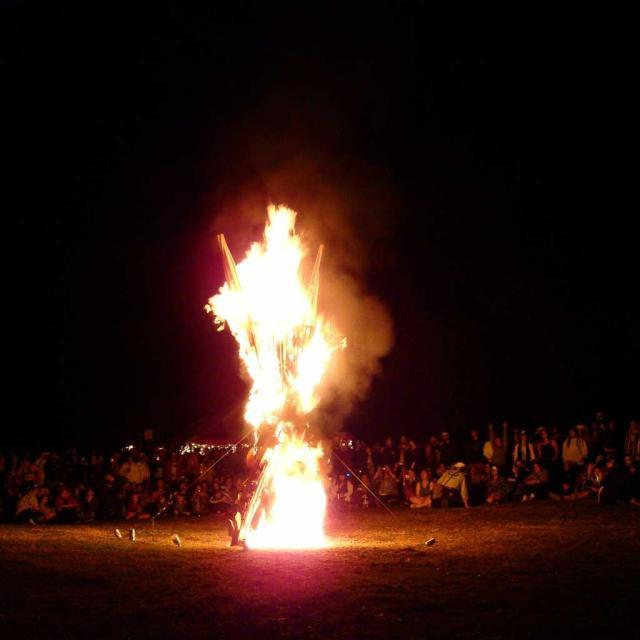Fire: (236, 247, 330, 408), (252, 446, 324, 548)
